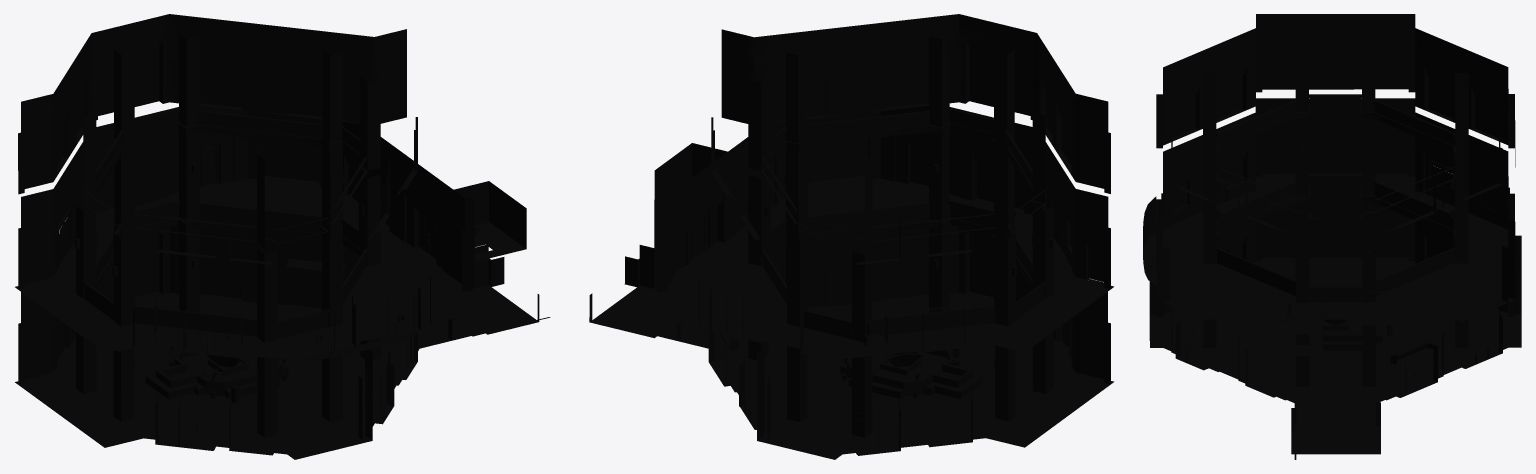
File: mall.glb
3 views of the same model, side by side, from view 1: azimuth 30°, elevation 25°; view 2: azimuth 150°, elevation 25°; view 3: azimuth 270°, elevation 25° (orthographic). The views are drawn at different scales.
Parts seen in each view (by area): view 1: BackSide_0; view 2: BackSide_0; view 3: BackSide_0.
Part boxes in pixels (bbox=[...]): BackSide_0: bbox=[15, 14, 550, 459]; BackSide_0: bbox=[589, 14, 1114, 459]; BackSide_0: bbox=[1143, 14, 1521, 459].
Bounding box in the file's own units: 28.82 × 16.42 × 22.82.
Materials: 12 (12 with a texture image).
